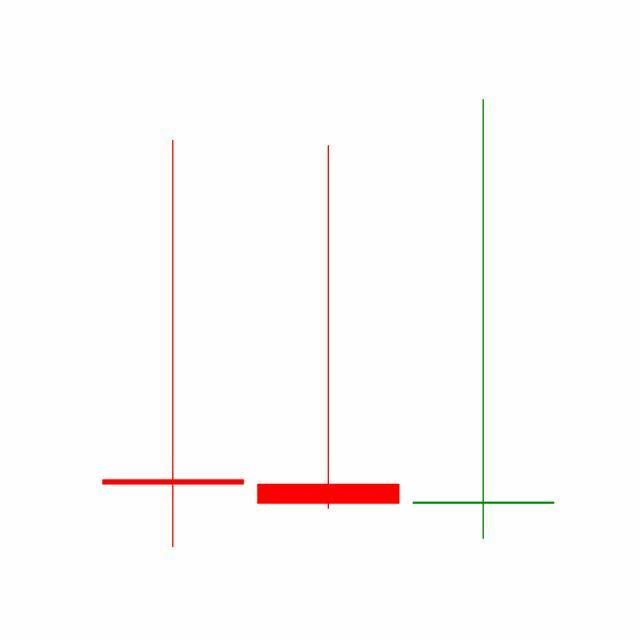Gravestone Doji: (250, 142, 407, 514)
